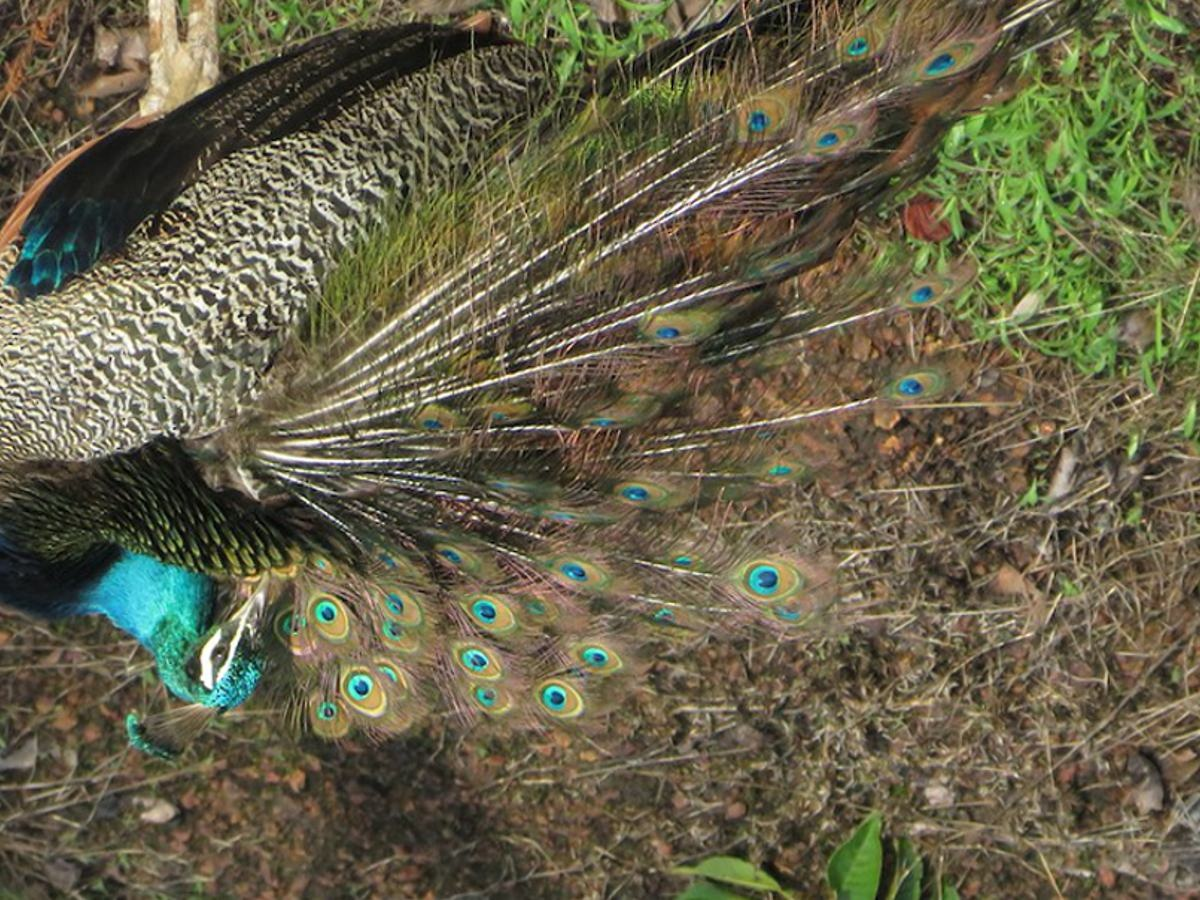peacock: (38, 38, 848, 726)
